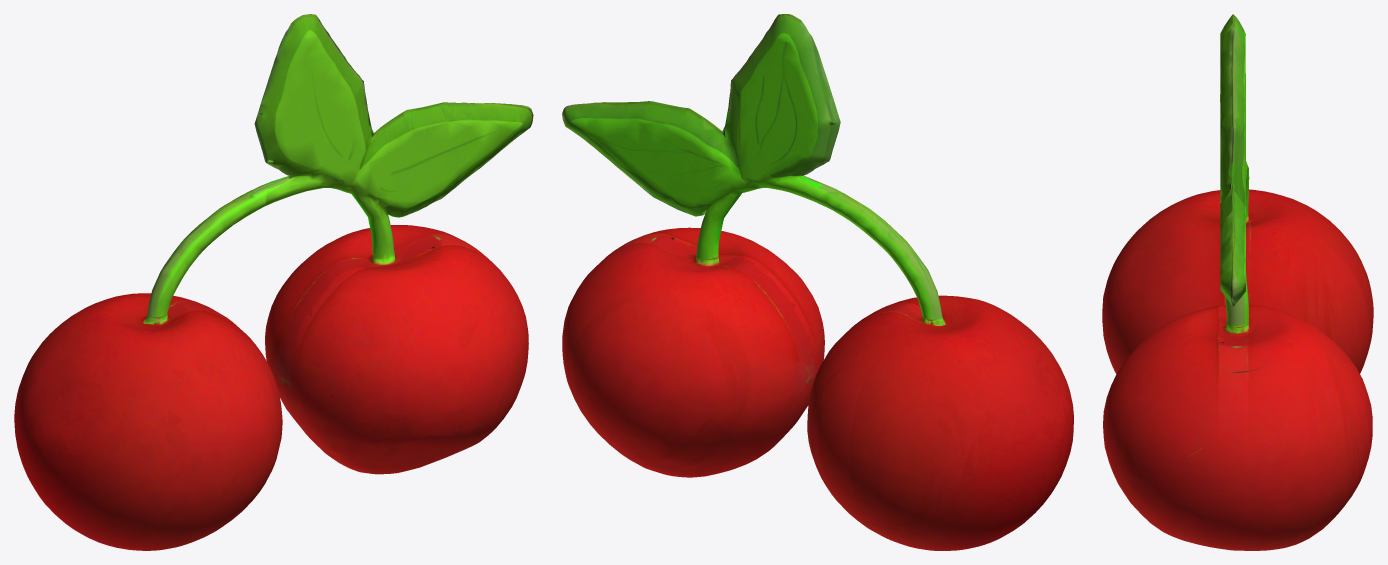
The model's file is cherry.glb.
The picture shows the model from 3 angles, left to right: view 1: azimuth 30°, elevation 25°; view 2: azimuth 150°, elevation 25°; view 3: azimuth 270°, elevation 25°; orthographic projection. The views are drawn at different scales.
Parts seen in each view (by area): view 1: Mesh_0; view 2: Mesh_0; view 3: Mesh_0.
Boxes of the visible parts, left/top/right/bottom form: Mesh_0: left=14, top=14, right=533, bottom=550; Mesh_0: left=562, top=14, right=1073, bottom=550; Mesh_0: left=1102, top=14, right=1373, bottom=550.
Size of the model in its own units: 2 by 1.85 by 0.9203.
1 material, 1 textured.
